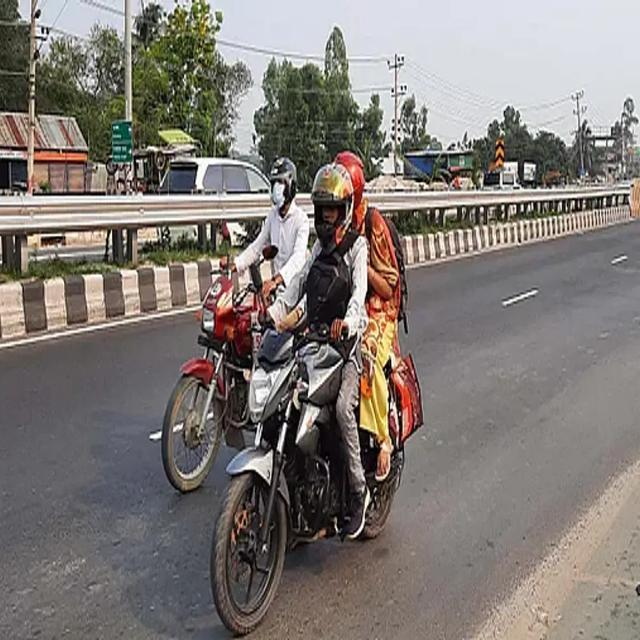bike: (228, 299, 410, 635), (153, 258, 258, 482)
